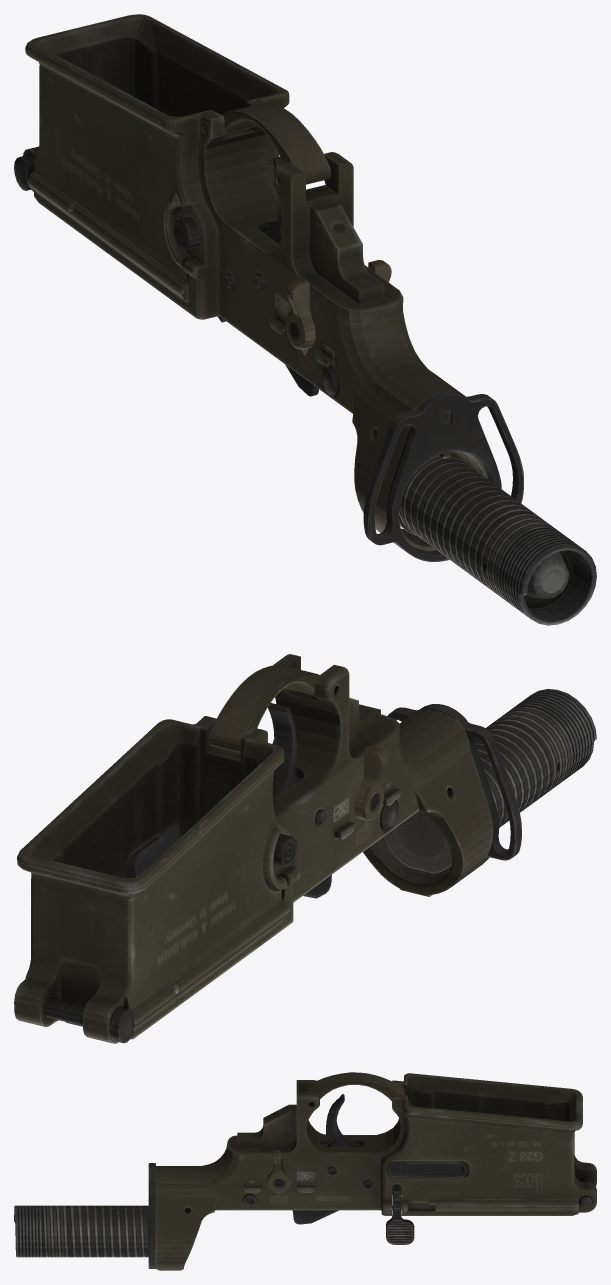
The picture shows the model from 3 angles, top to bottom: view 1: azimuth 30°, elevation 25°; view 2: azimuth 150°, elevation 25°; view 3: azimuth 270°, elevation 25°; orthographic projection. The views are drawn at different scales.
Parts seen in each view (by area): view 1: TW_6176aca650224f204c1da3fb_PZ_Import; view 2: TW_6176aca650224f204c1da3fb_PZ_Import; view 3: TW_6176aca650224f204c1da3fb_PZ_Import.
Part boxes in pixels (<box>): TW_6176aca650224f204c1da3fb_PZ_Import: <box>14,14,596,625</box>; TW_6176aca650224f204c1da3fb_PZ_Import: <box>14,654,596,1043</box>; TW_6176aca650224f204c1da3fb_PZ_Import: <box>14,1072,596,1270</box>.
Bounding box in the file's own units: 0.0332 × 0.1816 × 0.0651.
Materials: 1 (1 with a texture image).
